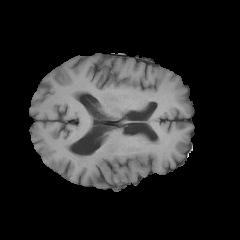glioma: (73, 124, 167, 175)
